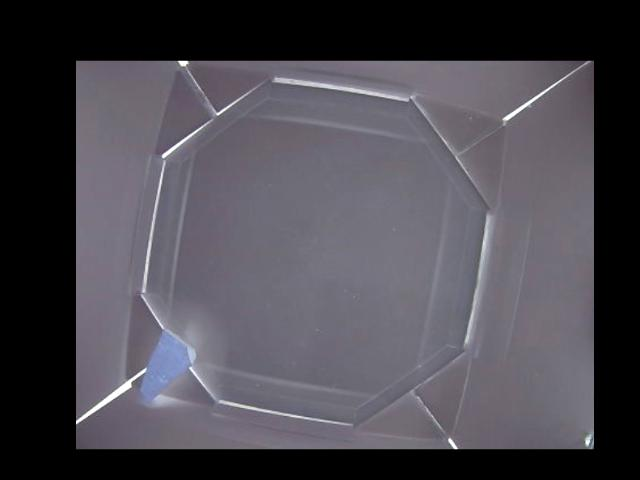China: (139, 330, 194, 406)
